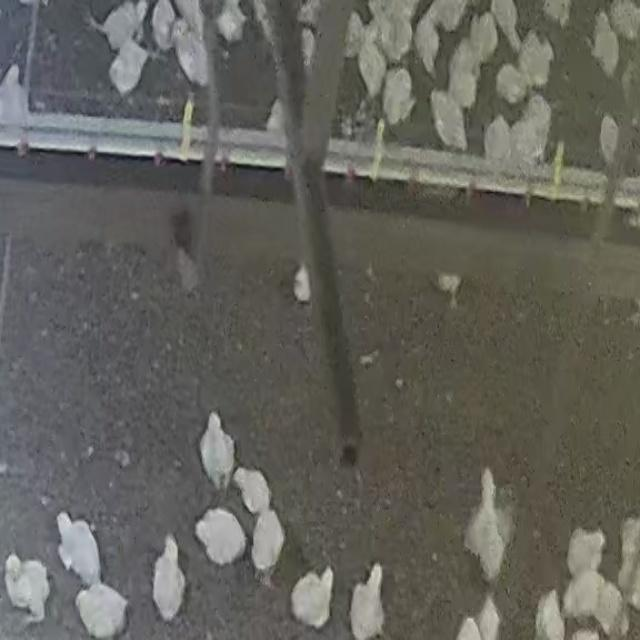chicken: (463, 468, 512, 580), (3, 551, 51, 625), (289, 560, 342, 626), (193, 411, 238, 487), (56, 512, 102, 586), (194, 506, 248, 566), (507, 99, 552, 170), (75, 582, 130, 637), (152, 536, 187, 622), (351, 560, 388, 640), (250, 506, 286, 581), (430, 86, 468, 153), (172, 24, 211, 88), (95, 1, 142, 53), (516, 30, 556, 91), (108, 38, 150, 96), (447, 41, 482, 110), (378, 5, 414, 66), (230, 463, 274, 512), (589, 12, 620, 81), (381, 67, 416, 127), (357, 36, 387, 102), (566, 526, 606, 574), (412, 8, 442, 72), (489, 0, 522, 52), (484, 114, 514, 168), (467, 13, 497, 67), (494, 62, 530, 105), (150, 0, 178, 50), (598, 114, 620, 164)
